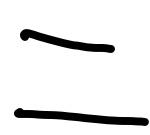eqv: (13, 28, 148, 126)
